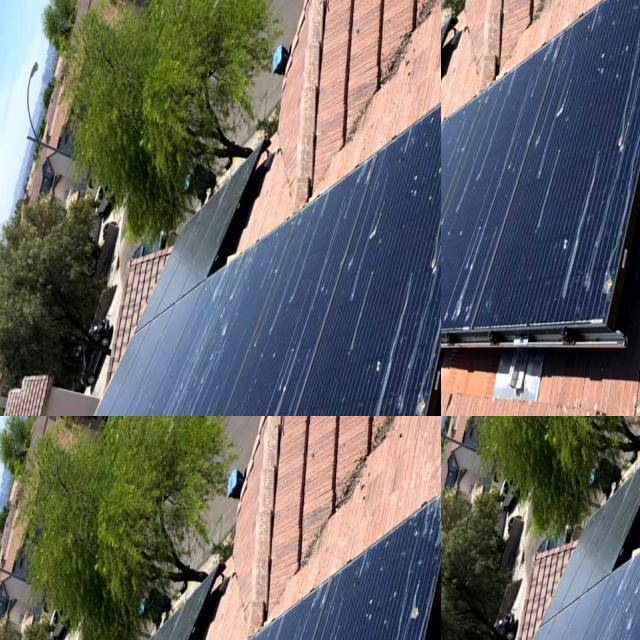bird: (604, 558, 640, 639)
shadow: (73, 546, 117, 640)
